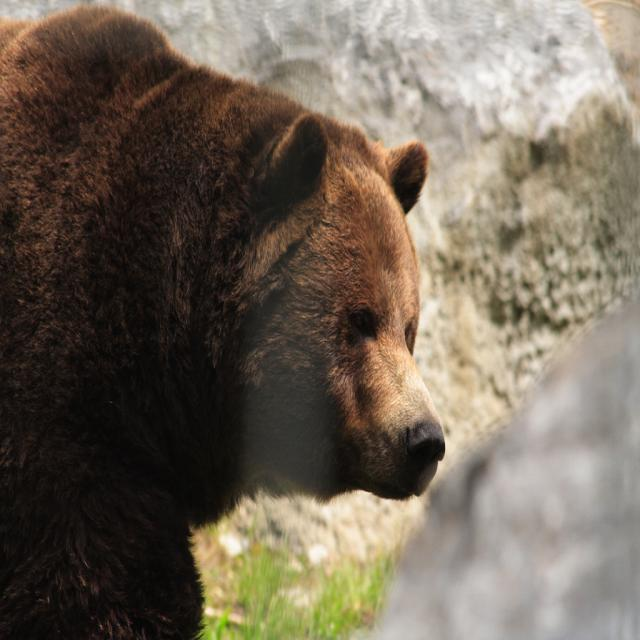bear: (0, 0, 440, 636)
